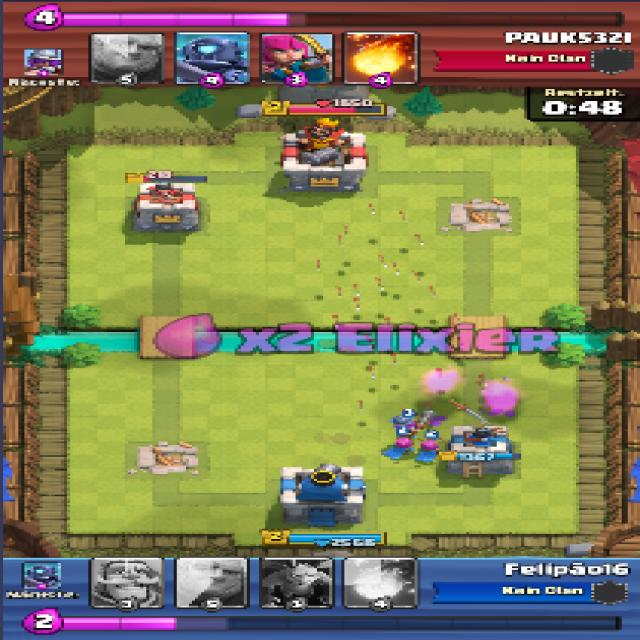Enemy-Arrow: (324, 208, 459, 390)
Player-Archer: (415, 439, 444, 466), (382, 438, 415, 458)
Player-Musketeer: (388, 408, 432, 432)
